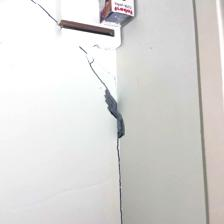Medium: (69, 43, 160, 222)
